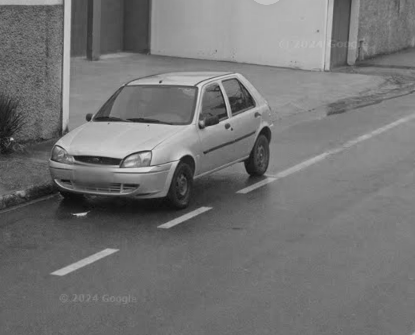car: (42, 62, 280, 217)
